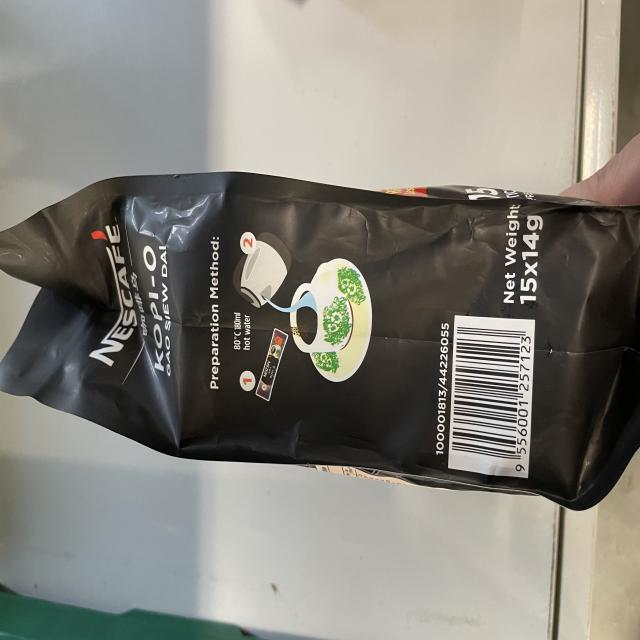object_name: (11, 180, 630, 483)
